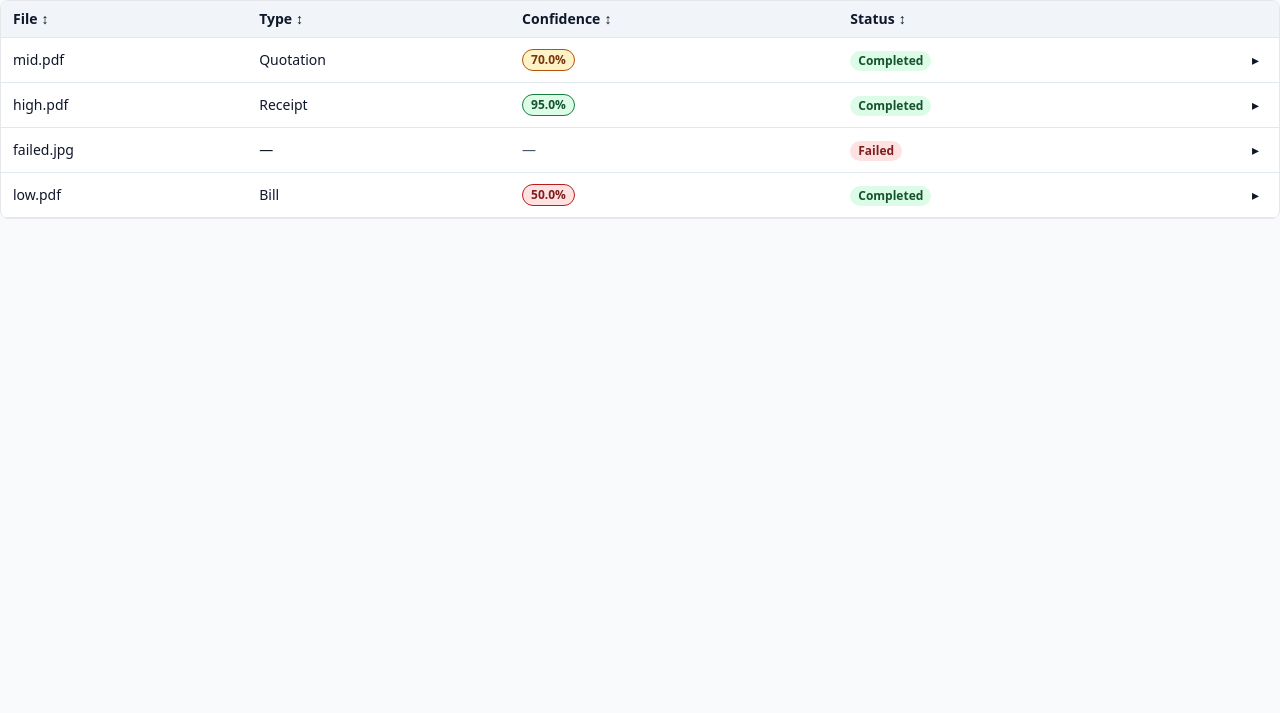
it: ResultsTable › expands a row to show its detail
Click the button named "Show details for high.pdf".
click(1256, 105)  # box left=1244, top=91, right=1267, bottom=119
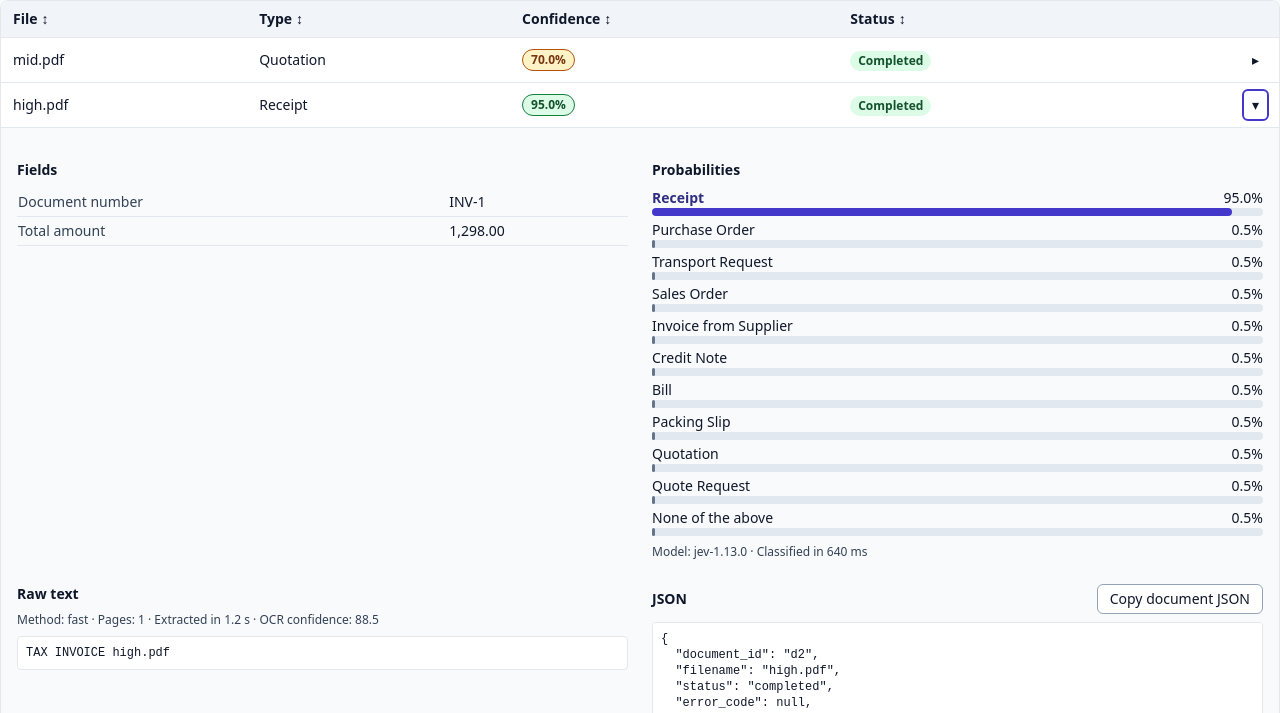
Expected: the button named "Hide details for high.pdf" is expanded, left=1244, top=91, right=1267, bottom=119
Expected: the button "Copy document JSON" is shown, left=1097, top=584, right=1263, bottom=614
